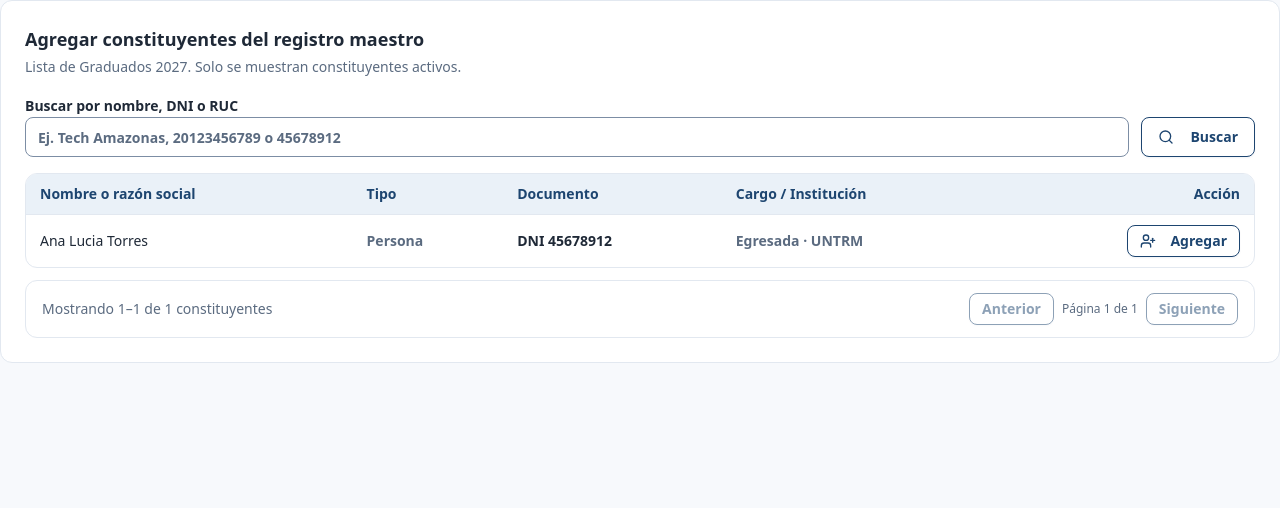
StakeholderListMemberPicker (HU-022, T-022-28) › shows what is missing in the registry for a graduate (CA2)
The image size is (1280, 508).
Click the button with aria-label "Agregar Ana Lucia Torres a la lista" at (1184, 240), box [1128, 224, 1240, 256]
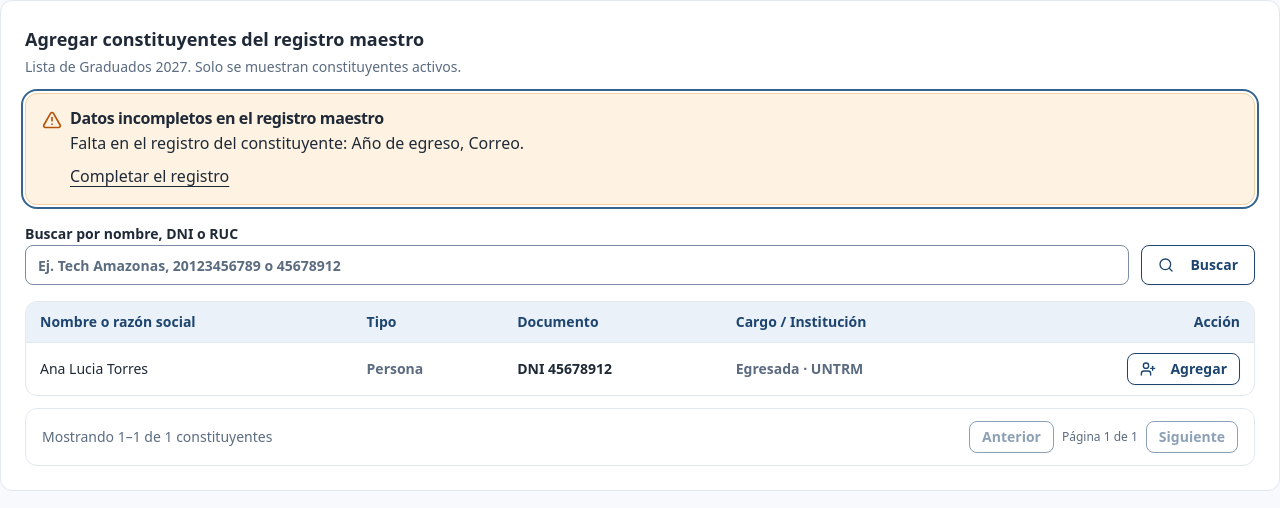
Result: the message shows "Año de egreso, Correo" at [352, 132, 520, 154]
